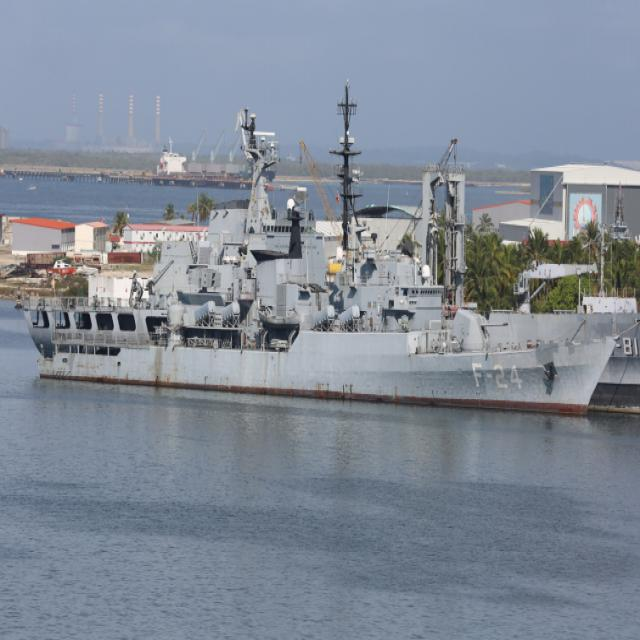Fragata: (19, 154, 620, 426)
